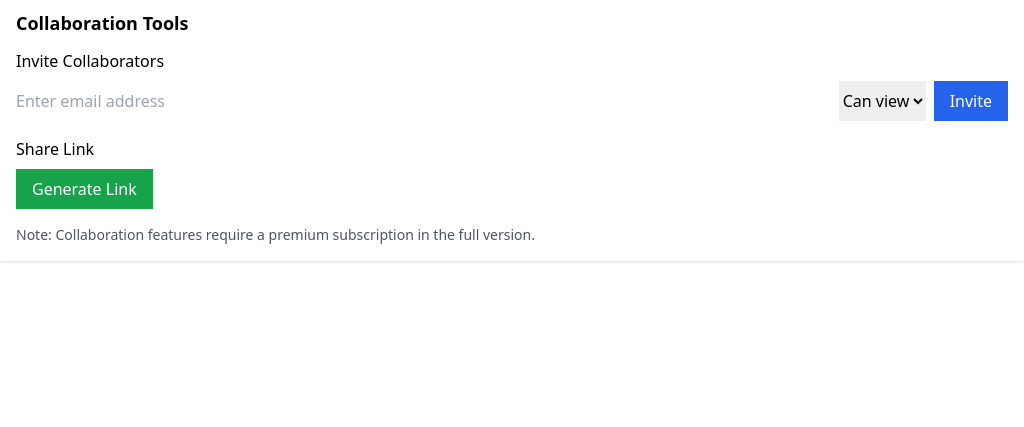
Test case: CollaborationTools › adds collaborator when valid email is entered
Enter valid email
In the field with placeholder "Enter email address": (423, 101) [16,81,831,121], type "test@example.com"
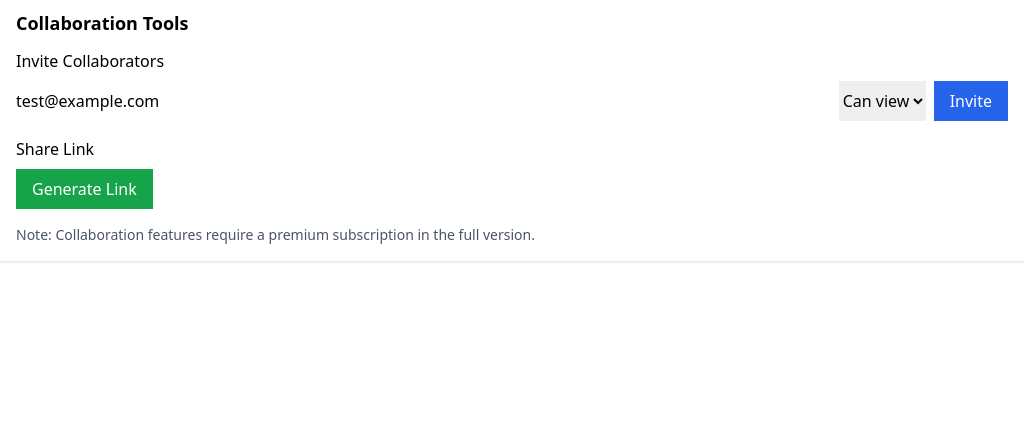
Click invite button
Click the button "Invite": (971, 101) [934,81,1008,121]
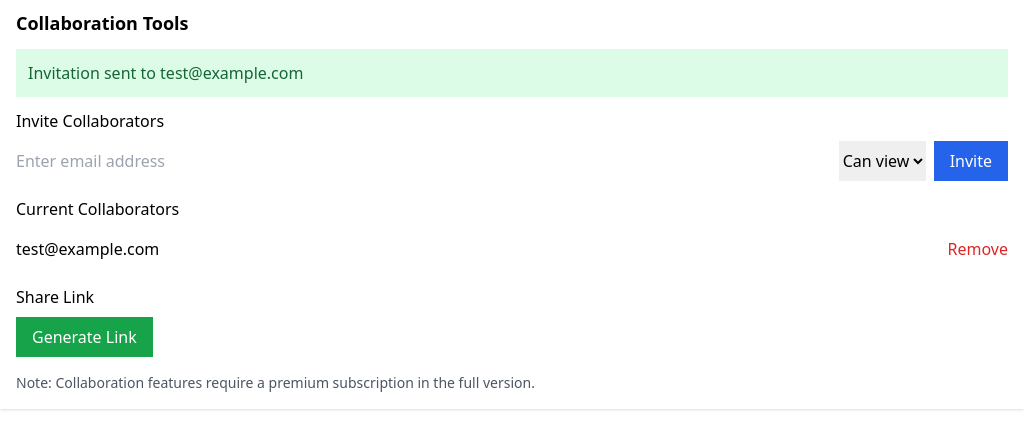
Expected: the text "Invitation sent to test@example.com" is shown, [16,49,1008,97]
Expected: the text "test@example.com" is shown, [16,237,159,261]
Expected: the button "Remove" is shown, [948,237,1008,261]
